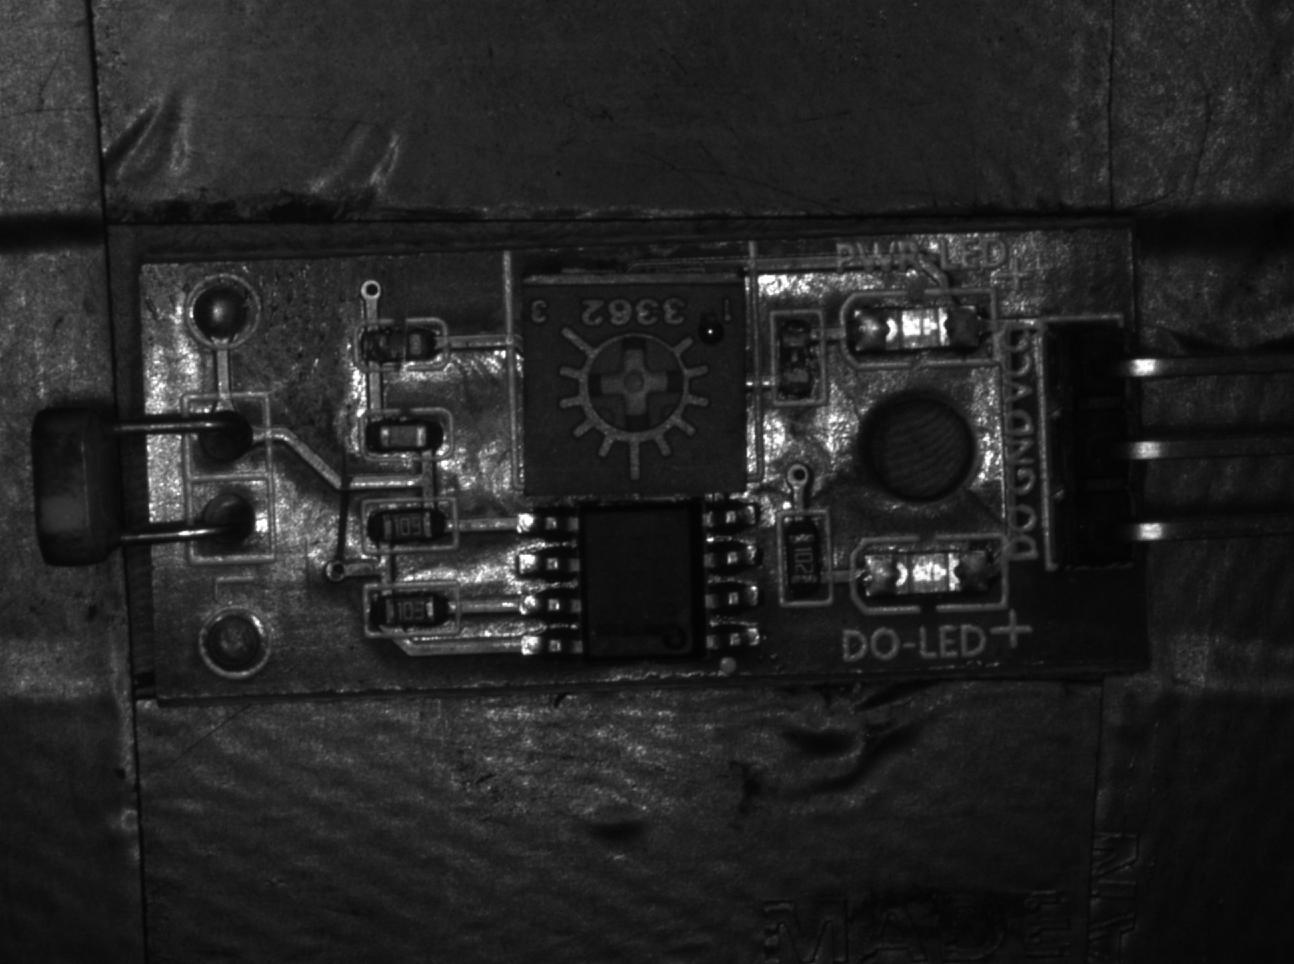miss: (349, 318, 451, 374), (773, 305, 825, 404)
ok: (778, 508, 833, 608), (355, 411, 455, 463), (354, 501, 460, 550), (363, 583, 460, 636)
